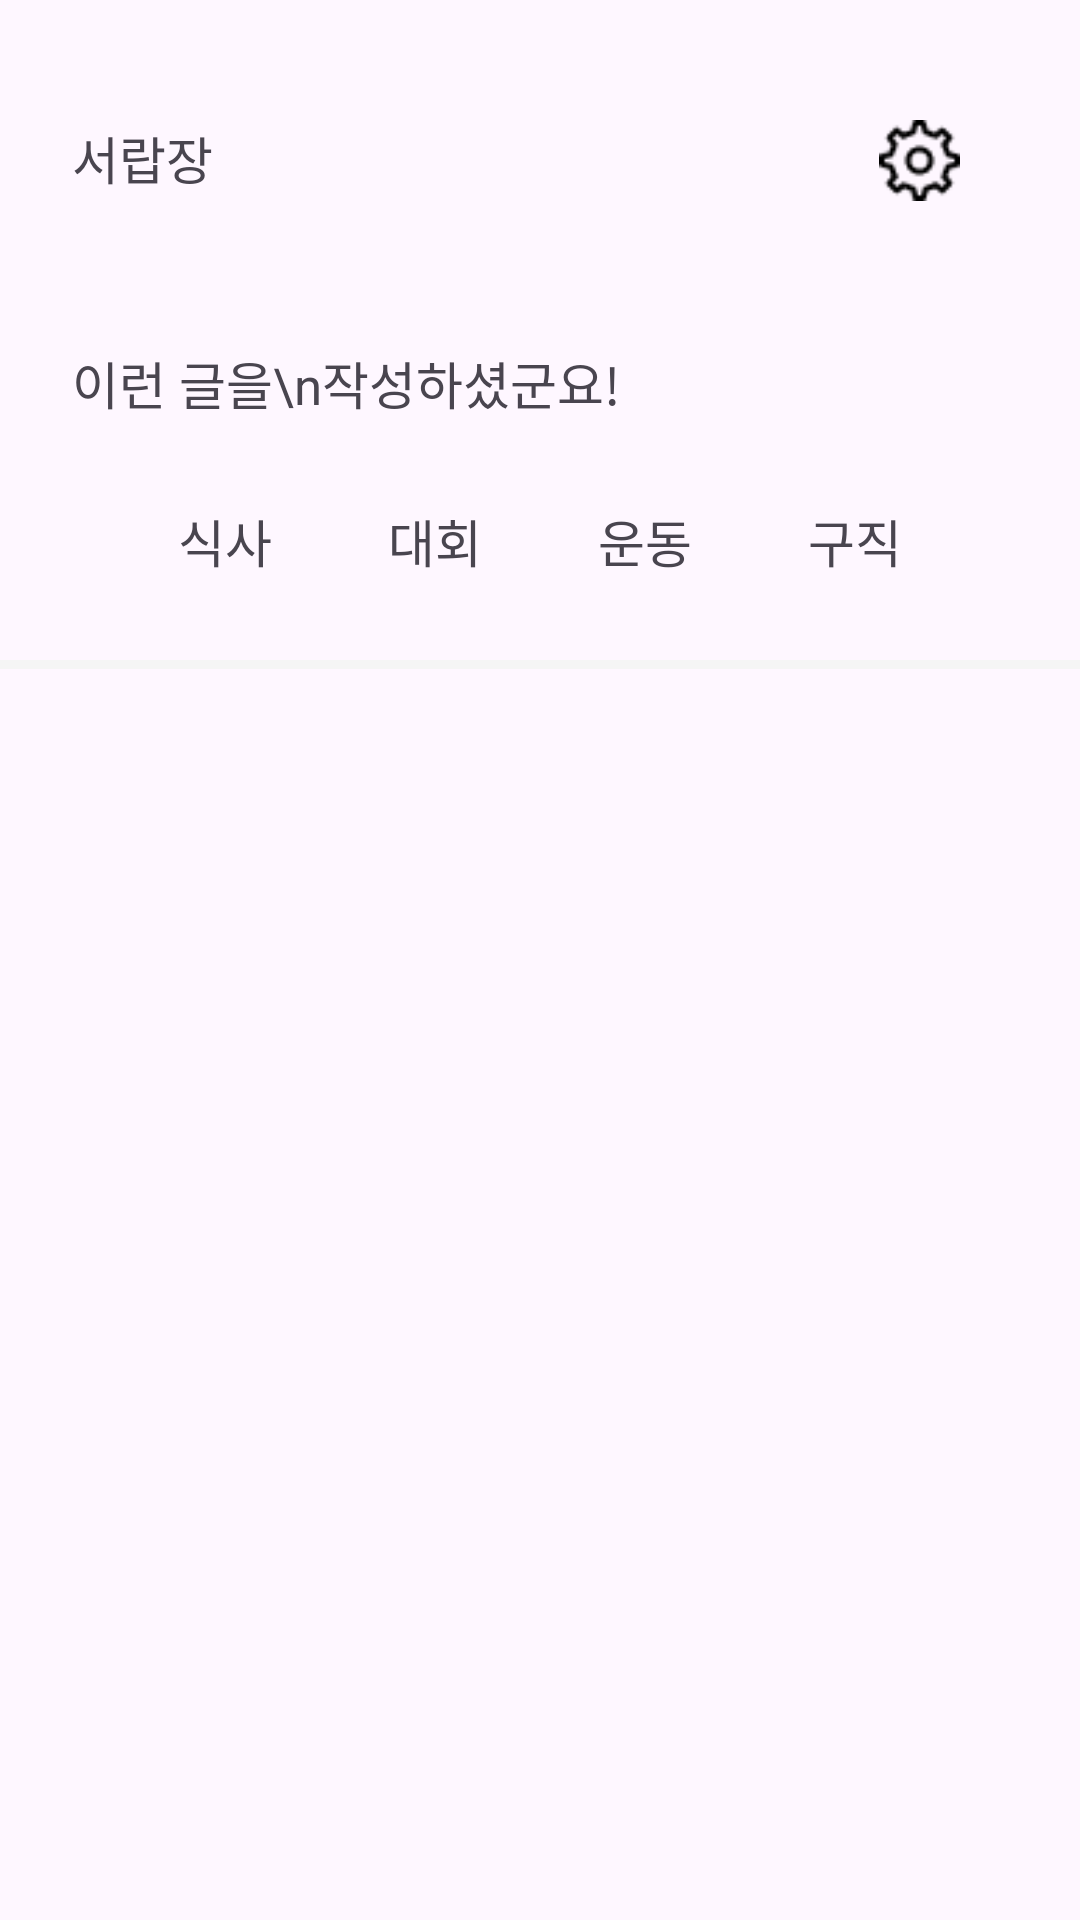

Locate icon controls on the screen. Image size 1080×1920, boxes as (x1, y1, x2, y2).
setting: (879, 120, 960, 201)
